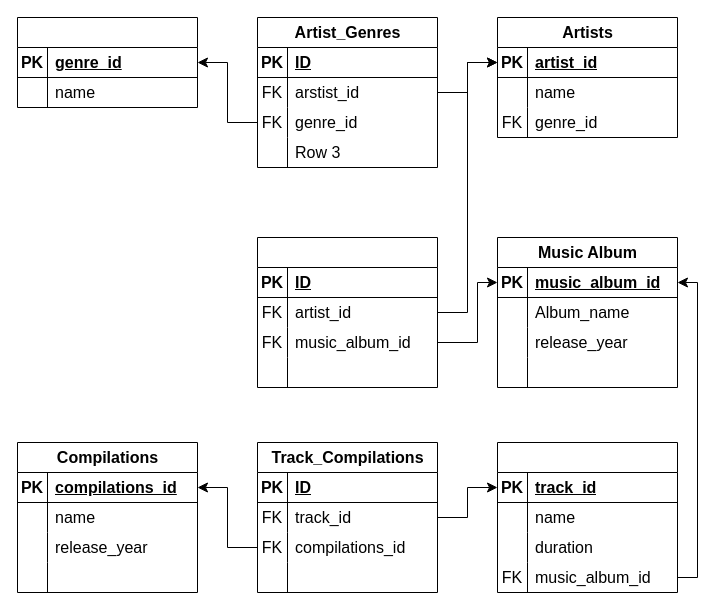
Image size: 725x610. Some labels were removed from this diagram. The box of each missing label's shape, as (x1, y1, x2, y2) in pixels:
Artist_Albums: (256, 236, 438, 388)
Genres: (16, 16, 198, 108)
Track list: (496, 442, 678, 592)
